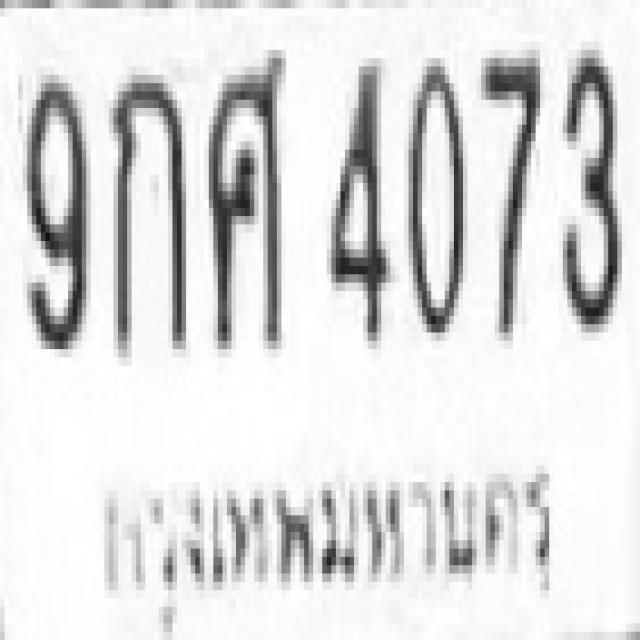-: (204, 46, 282, 345), (109, 67, 181, 349)
0: (404, 50, 463, 332)
3: (558, 42, 618, 324)
4: (322, 50, 386, 341)
7: (477, 50, 540, 332)
9: (23, 67, 86, 349)
BKK: (73, 420, 559, 631)
